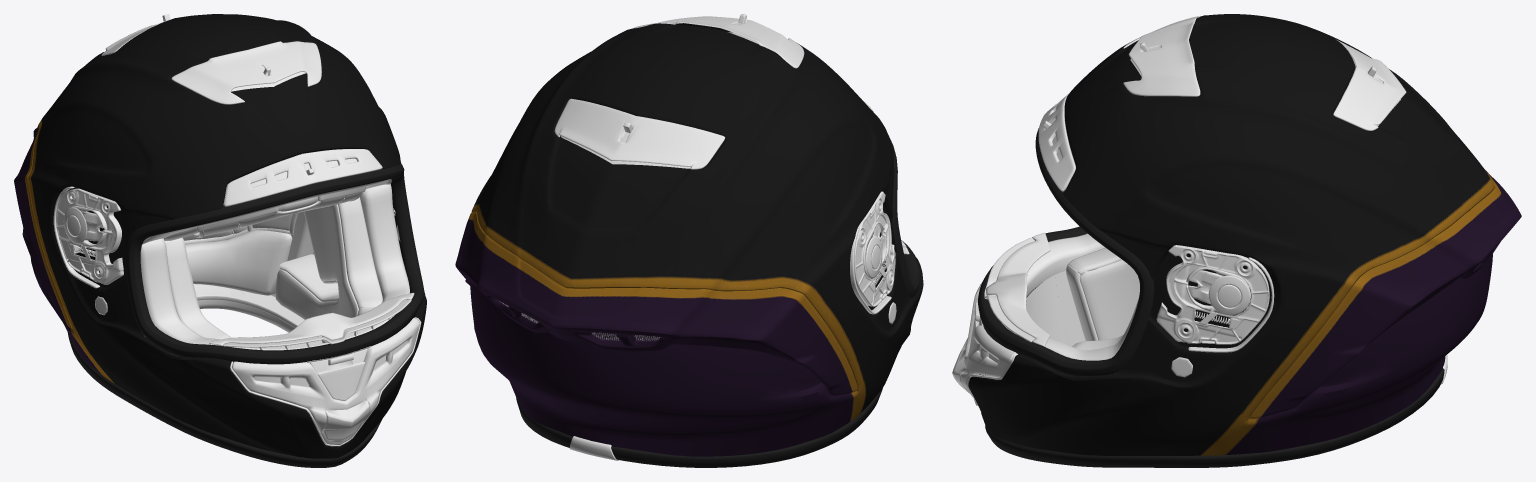
Rendered from bellText.glb.
3 renders of one model, left to right at view 1: azimuth 30°, elevation 25°; view 2: azimuth 150°, elevation 25°; view 3: azimuth 270°, elevation 25°, orthographic. The views are drawn at different scales.
Parts seen in each view (by area): view 1: Insides, Outer_Shell; view 2: Outer_Shell, Insides; view 3: Outer_Shell, Insides.
Boxes of the visible parts, x1,y1,x2,y2 form: Insides: (53, 14, 424, 467); Outer_Shell: (14, 14, 426, 458); Outer_Shell: (455, 23, 923, 456); Insides: (499, 14, 920, 467); Outer_Shell: (968, 14, 1521, 455); Insides: (952, 16, 1447, 467).
Size of the model in its own units: 0.997 by 1.08 by 1.38.
Materials: 11 (1 with a texture image).
